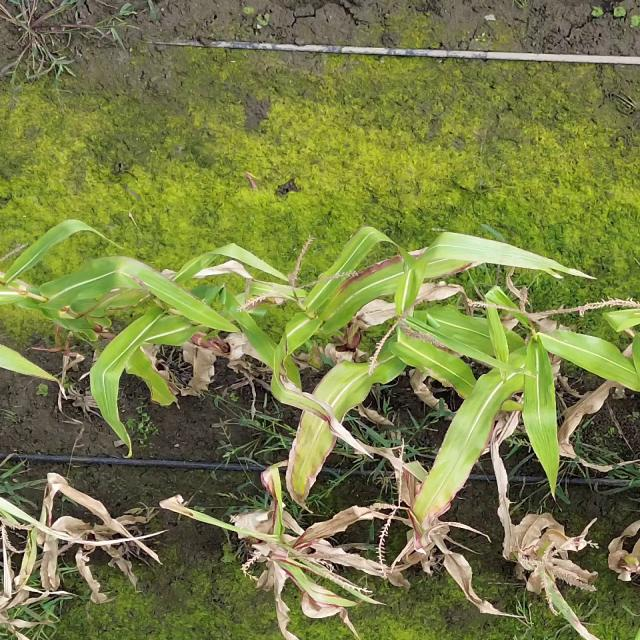gray-leaf-spot: (165, 288, 220, 320)
northern-leaf-blight: (278, 395, 340, 494)
